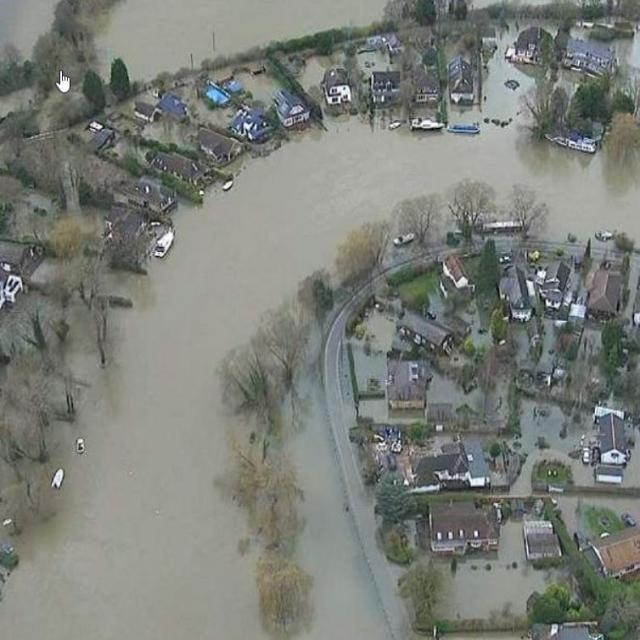flood: (0, 56, 640, 640), (291, 398, 390, 640), (97, 0, 385, 78), (510, 403, 640, 536), (440, 517, 562, 620), (427, 331, 499, 426), (511, 310, 560, 382), (0, 0, 58, 56), (366, 309, 397, 354), (578, 324, 604, 360)
house: (426, 498, 496, 562), (354, 36, 403, 116), (588, 522, 640, 578), (404, 307, 456, 355), (567, 34, 622, 79), (384, 357, 429, 410), (587, 262, 626, 320), (428, 440, 470, 489), (594, 411, 630, 466), (524, 515, 564, 564), (320, 57, 352, 114), (153, 152, 205, 187), (197, 126, 244, 164), (501, 266, 532, 323), (440, 248, 471, 302), (446, 56, 479, 105), (272, 89, 312, 126), (511, 24, 544, 66)
